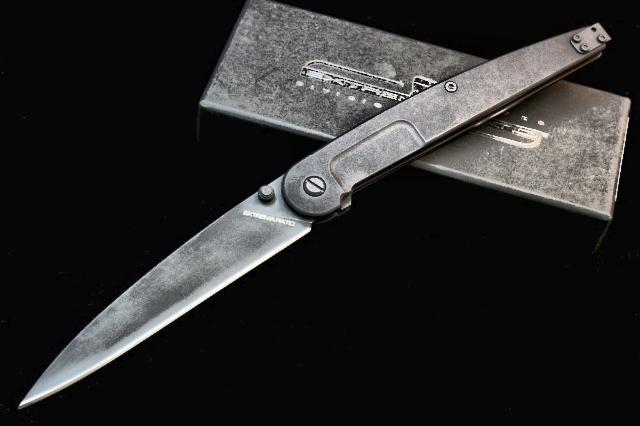knife: (14, 172, 314, 418)
